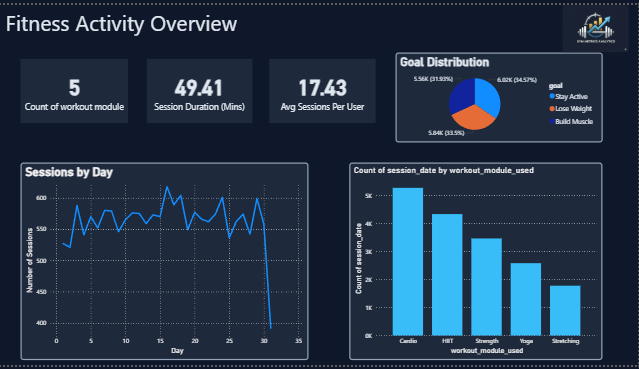

What the dashboard file says about the page in this screenshot:
{"tool":"powerbi","page":{"name":"Page 2","canvas":[1280,720],"ordinal":1},"visuals":[{"type":"card","fields":{"Values":["Count(p-fitness.workout_module_used)"]},"box":[45.3,108.4,215.4,129],"z":0},{"type":"lineChart","title":"Sessions by Day","fields":{"Category":["p-fitness.session_date.Variation.Date Hierarchy.Year","p-fitness.session_date.Variation.Date Hierarchy.Quarter","p-fitness.session_date.Variation.Date Hierarchy.Month","p-fitness.session_date.Variation.Date Hierarchy.Day"],"Y":["CountNonNull(p-fitness.session_date)"]},"box":[45.3,314.2,576.3,395.2],"z":1000},{"type":"clusteredColumnChart","fields":{"Category":["p-fitness.workout_module_used"],"Y":["CountNonNull(p-fitness.session_date)"]},"box":[702.6,314.2,506.3,395.2],"z":2000},{"type":"card","fields":{"Values":["Avg(p-fitness.session_duration_minutes)"]},"box":[297.8,108.4,211.3,129],"z":3000},{"type":"card","fields":{"Values":["p-fitness.Avg Sessions Per User"]},"box":[543.4,108.4,212.7,129],"z":4000},{"type":"pieChart","title":"Goal Distribution","fields":{"Category":["p-fitness.goal"],"Y":["CountNonNull(p-fitness.goal)"]},"box":[794.5,94.7,414.4,179.8],"z":5000},{"type":"textbox","box":[11.1,0,481.1,66.7],"z":6000},{"type":"image","box":[1110,0,170,94],"z":6001}]}

Visuals, with their boxes in screenshot pixels (x1, y1, x2, y2), scaled from the page's 1280x720 canvas onto the 639x369 screenshot:
card - Count(p-fitness.workout_module_used): 23,56,130,122
"Sessions by Day" lineChart: 23,161,310,364
clusteredColumnChart - p-fitness.workout_module_used x CountNonNull(p-fitness.session_date): 351,161,604,364
card - Avg(p-fitness.session_duration_minutes): 149,56,254,122
card - p-fitness.Avg Sessions Per User: 271,56,377,122
"Goal Distribution" pieChart: 397,49,604,141
textbox: 6,0,246,34
image: 554,0,638,48
